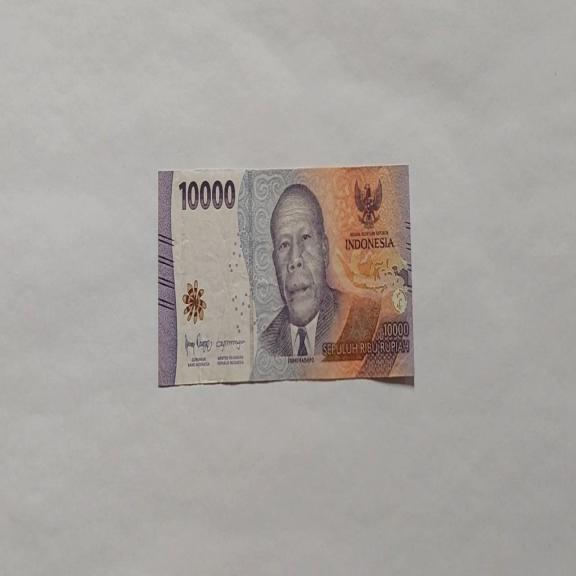Kertas: (158, 163, 414, 388), (178, 177, 236, 212)
